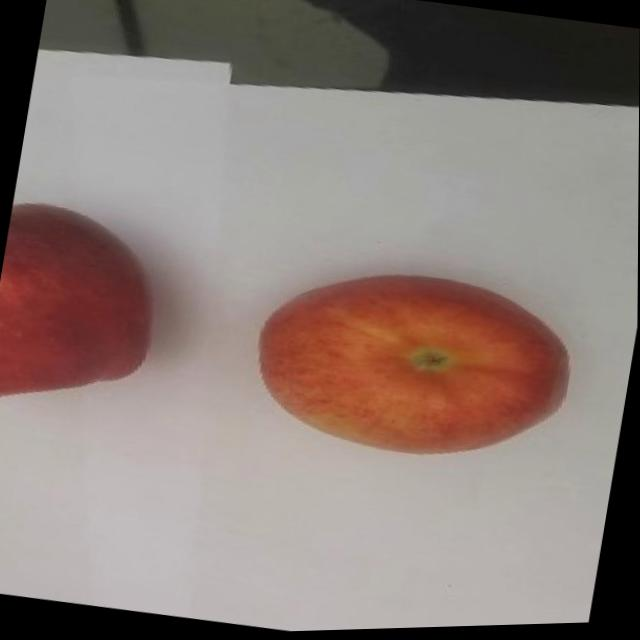Apple: (244, 248, 584, 482), (0, 195, 171, 420)
